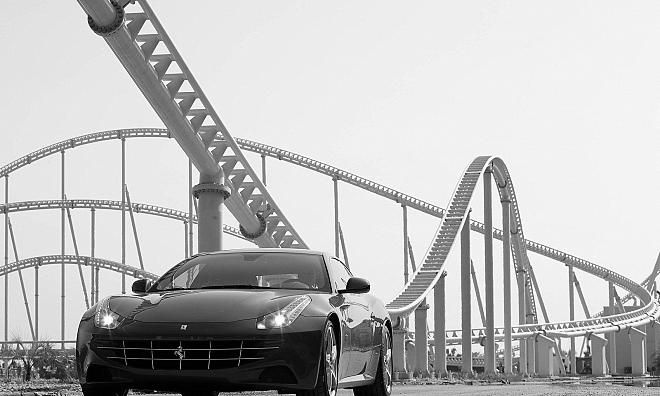car: (76, 247, 396, 396)
